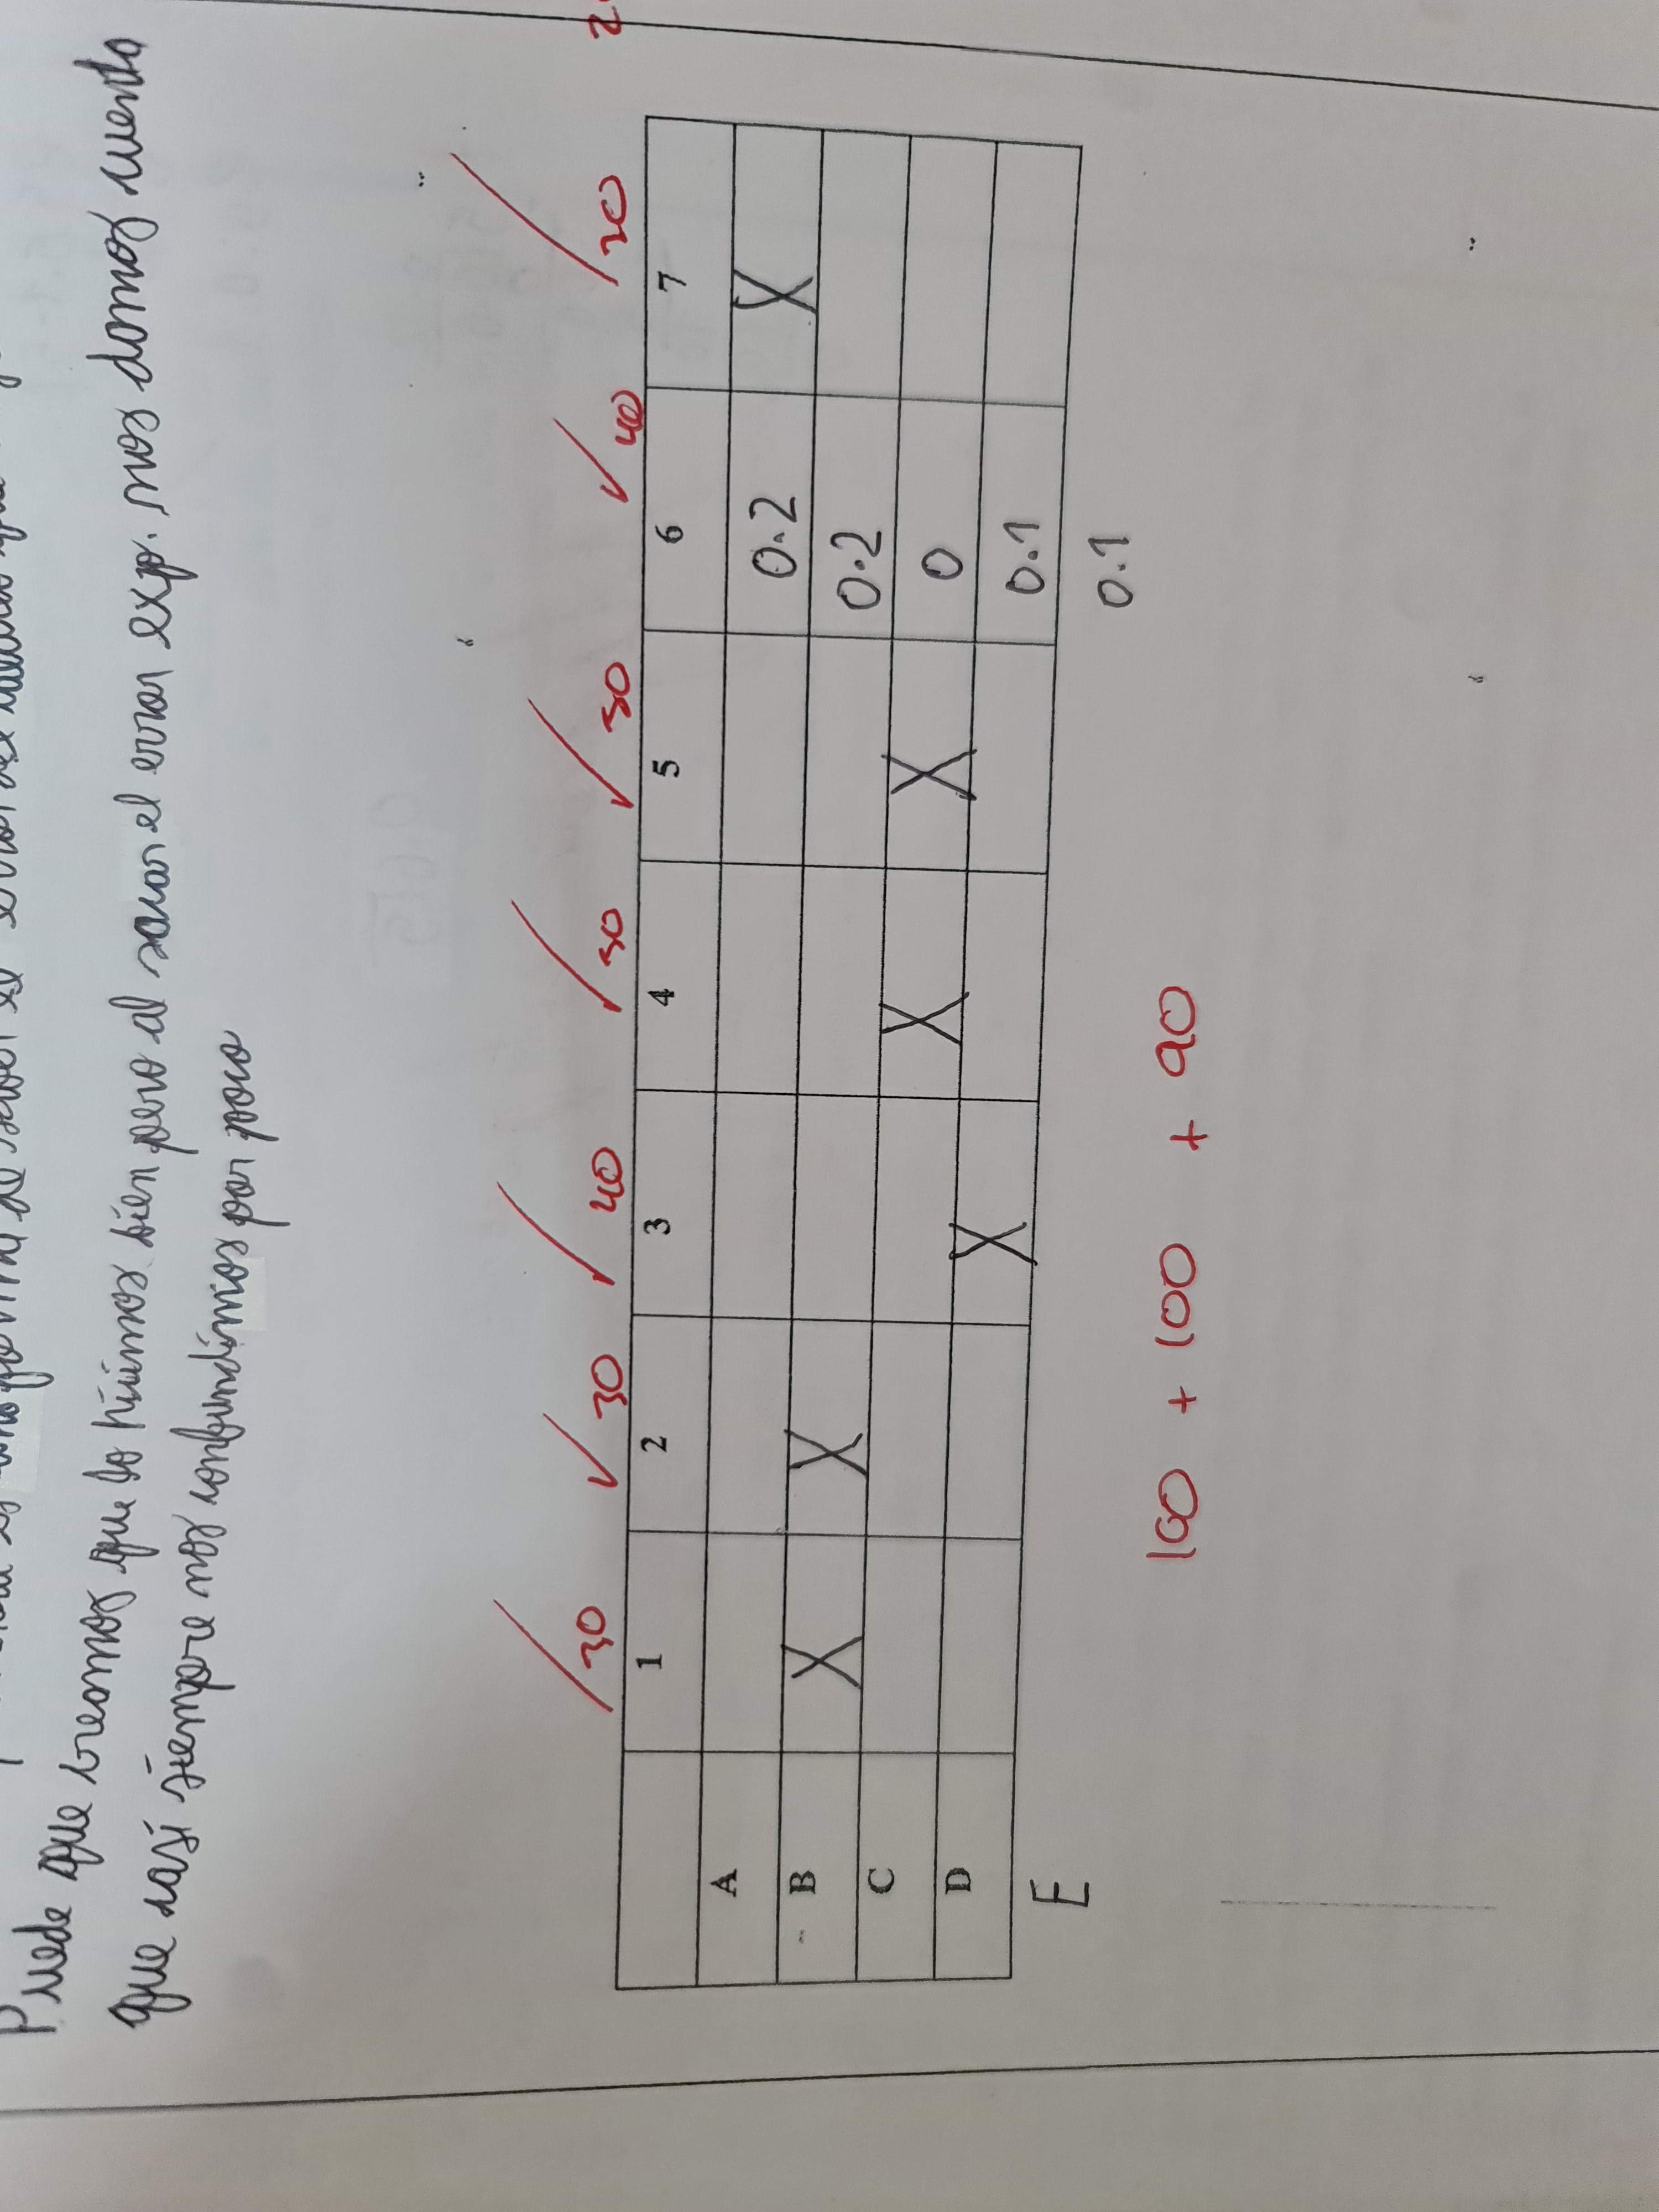column: (613, 846, 1070, 1116), (603, 1078, 1061, 1332), (599, 1740, 1037, 2000), (622, 627, 1084, 867), (617, 1294, 1054, 1545), (608, 1524, 1054, 1752)
